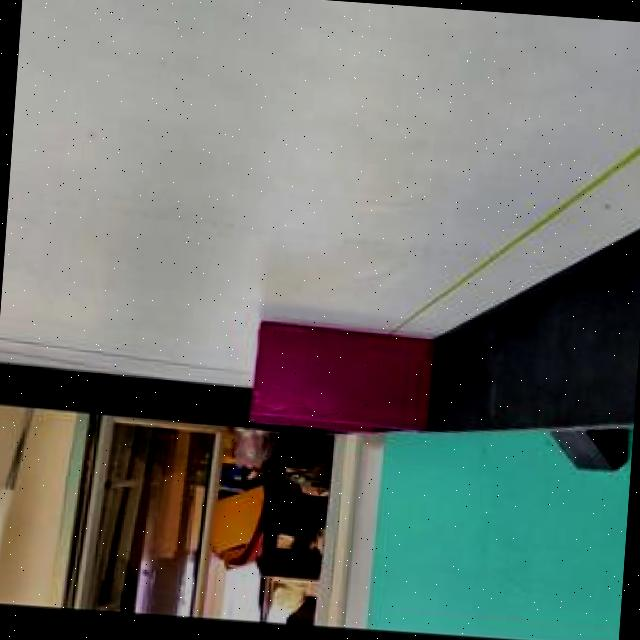xparking: (255, 327, 421, 426)
